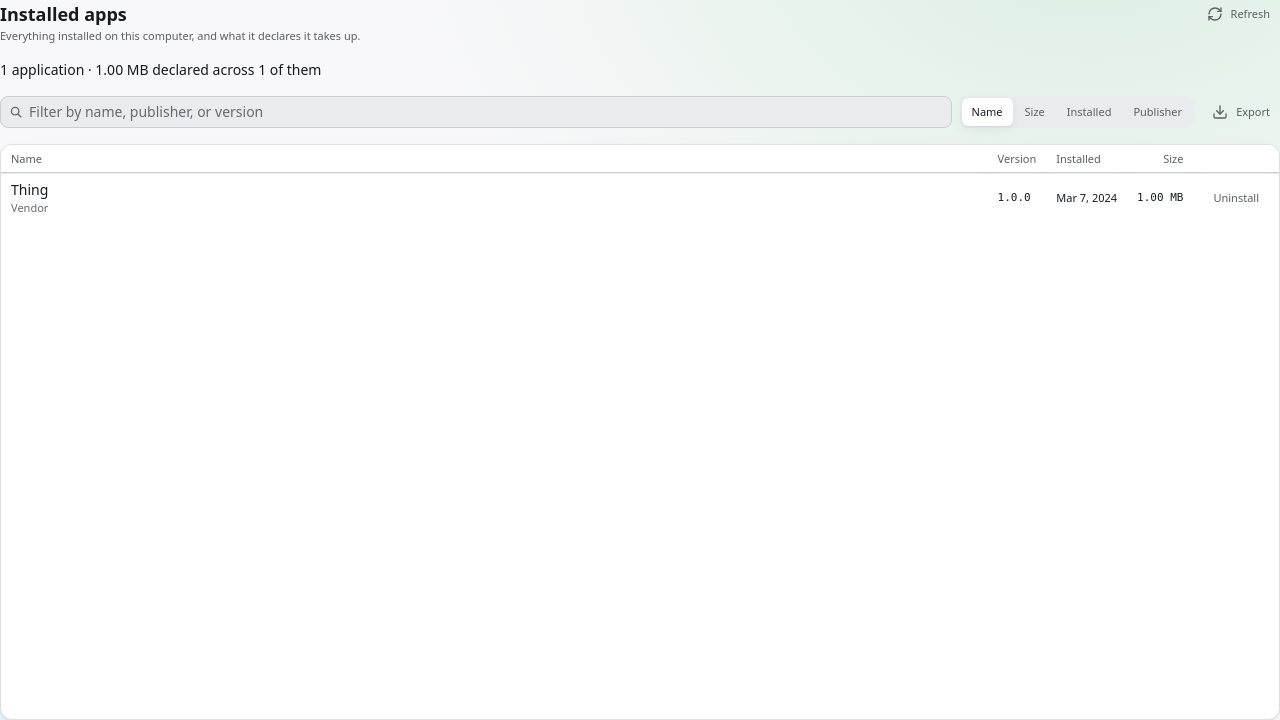
Test: AppsScreen › uninstall › reports a failure to start the uninstaller
The width and height of the screenshot is (1280, 720).
Check: the heading "Installed apps" is shown, box left=0, top=2, right=127, bottom=26
Click the button "Uninstall" at (1236, 198), box left=1203, top=184, right=1269, bottom=212
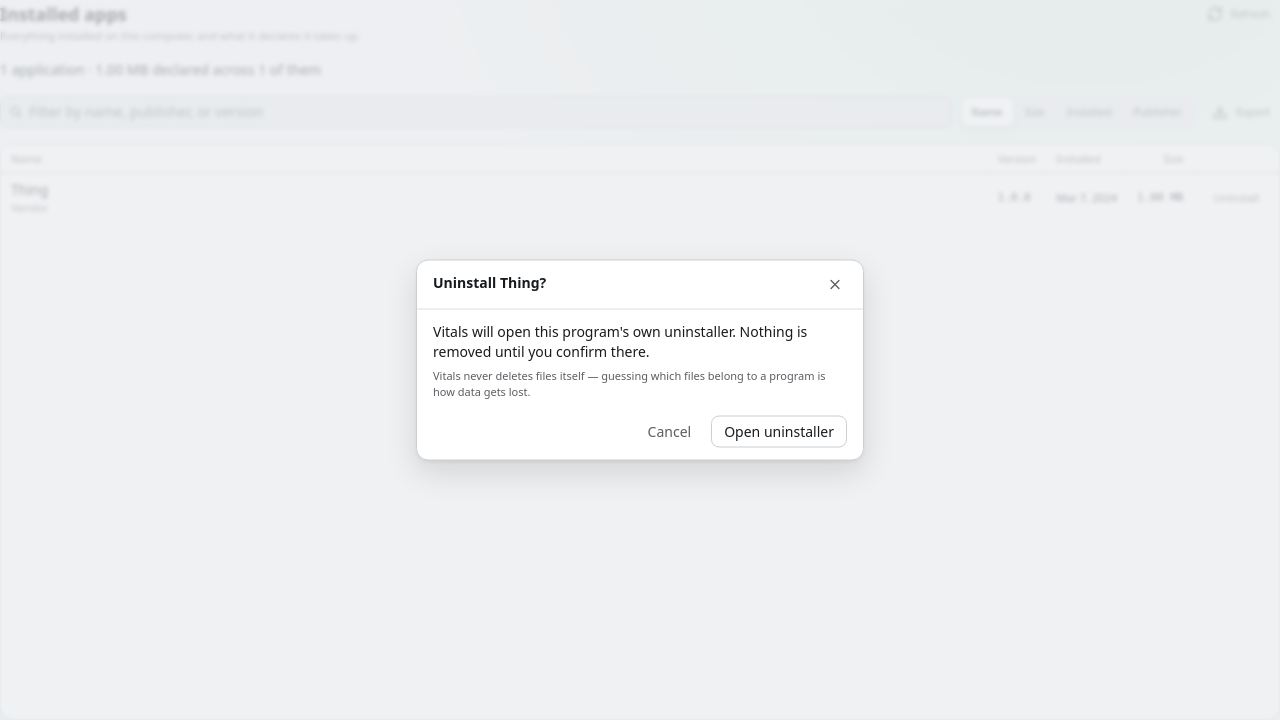
Click the button "Open uninstaller" at (779, 432), box left=711, top=416, right=847, bottom=448
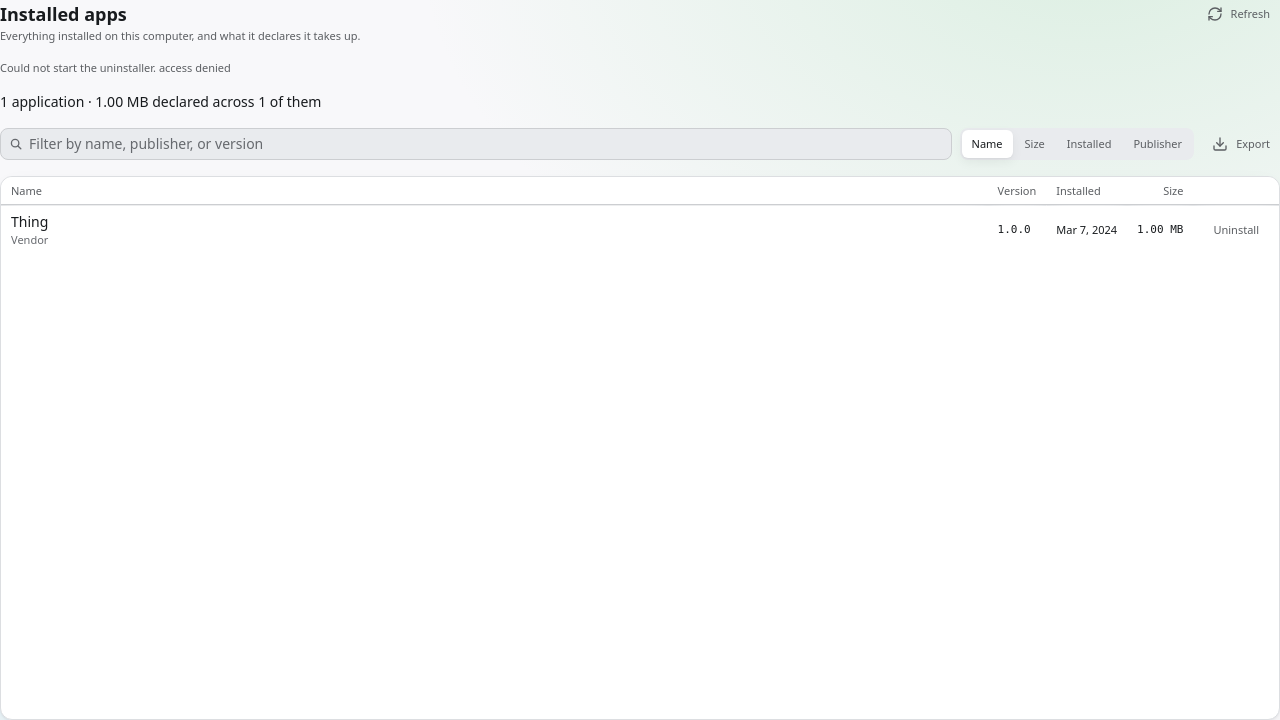
Check: the text "Could not start the uninstaller. access denied" is shown, box left=0, top=60, right=231, bottom=75
